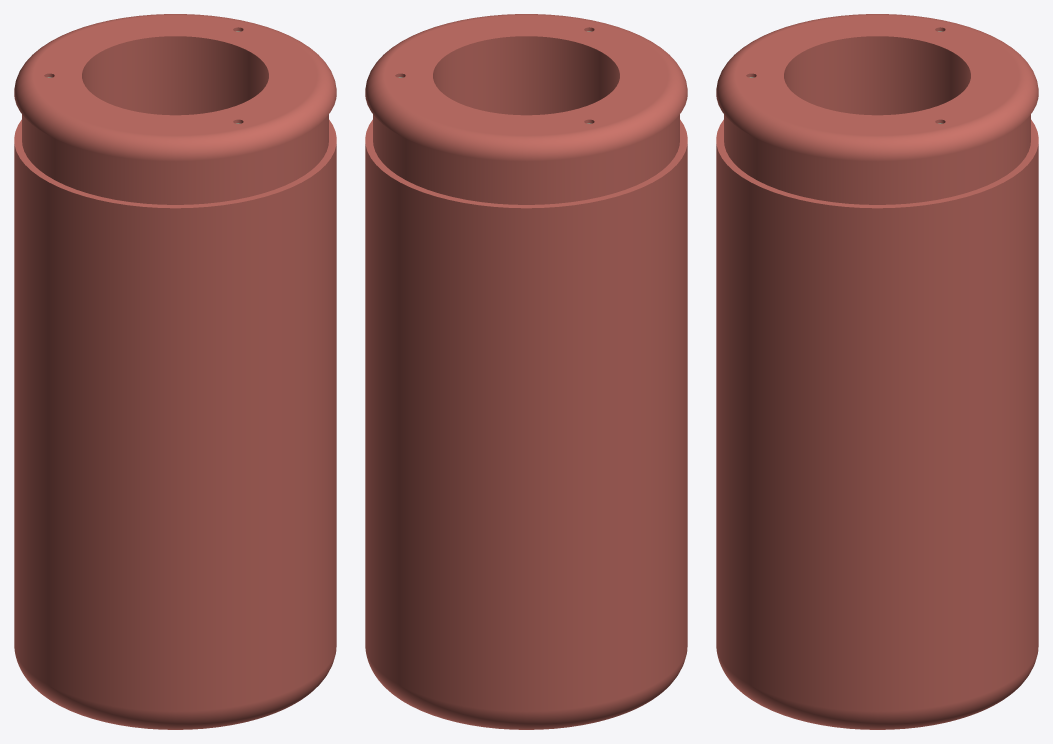
File: step_01.glb
The picture shows the model from 3 angles, left to right: view 1: azimuth 30°, elevation 25°; view 2: azimuth 150°, elevation 25°; view 3: azimuth 270°, elevation 25°; orthographic projection.
Visible parts, largest first — view 1: part__float hull; view 2: part__float hull; view 3: part__float hull.
Boxes of the visible parts, bbox=[...] form: part__float hull: bbox=[14, 14, 336, 729]; part__float hull: bbox=[365, 14, 687, 729]; part__float hull: bbox=[716, 14, 1038, 729].
Bounding box in the file's own units: 500 × 1020 × 500.
